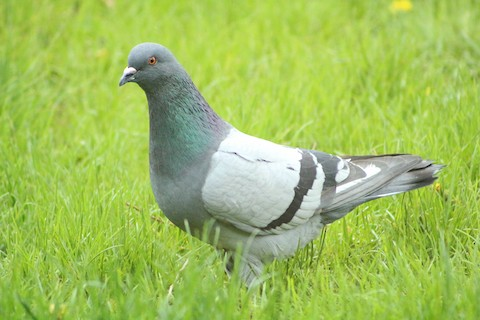pigeon: (116, 38, 445, 307)
